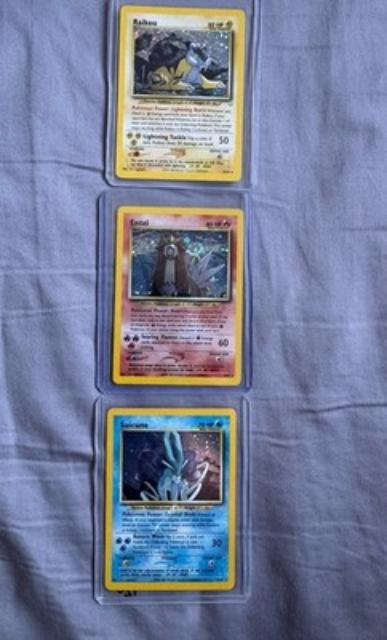Card: (102, 405, 240, 594), (111, 204, 245, 387), (113, 3, 248, 184)
Name: (117, 417, 151, 431), (125, 214, 154, 229), (130, 14, 160, 28)
